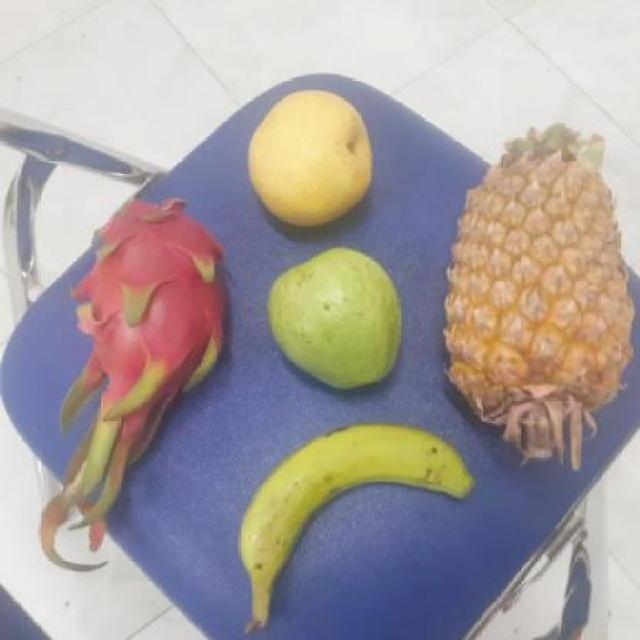banana: (236, 424, 461, 598)
dragon fruit: (70, 196, 233, 401)
guava: (260, 251, 403, 388)
pear: (238, 92, 375, 226)
pineapple: (439, 133, 633, 473)
